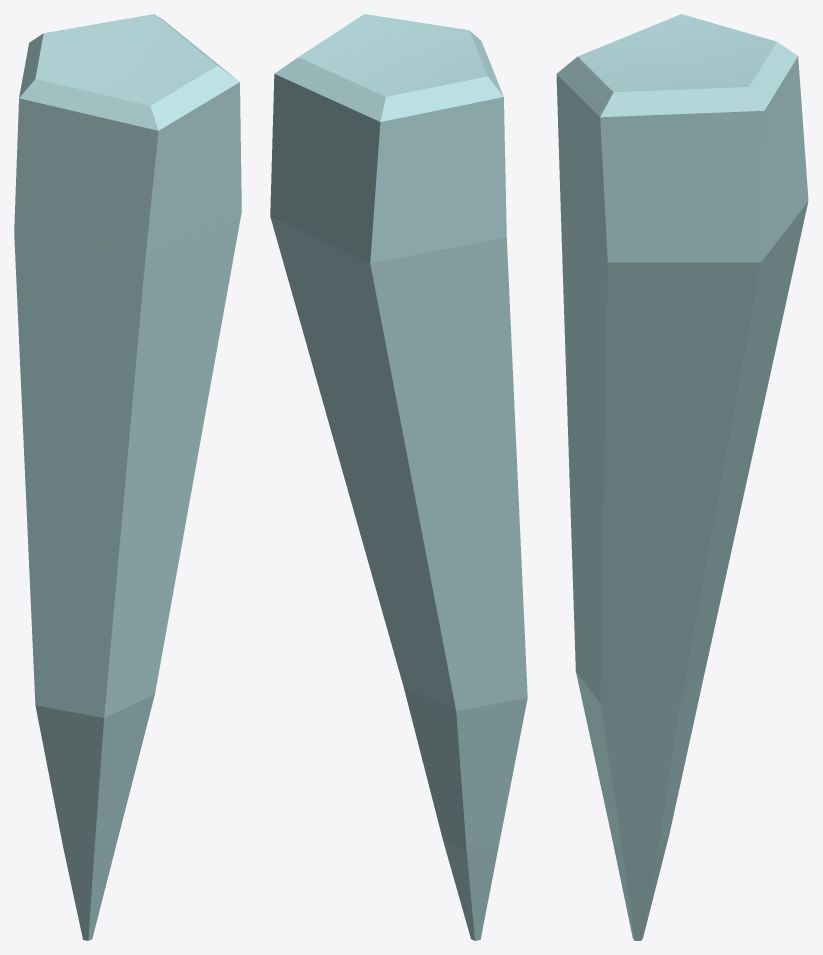
The model's file is stalagtite02.fbx.
The picture shows the model from 3 angles, left to right: view 1: azimuth 30°, elevation 25°; view 2: azimuth 150°, elevation 25°; view 3: azimuth 270°, elevation 25°; orthographic projection. The views are drawn at different scales.
Visible parts, largest first — view 1: Stalactite2; view 2: Stalactite2; view 3: Stalactite2.
Part boxes in pixels (x1,y1,x2,y2): Stalactite2: (14, 14, 241, 940); Stalactite2: (270, 14, 527, 940); Stalactite2: (556, 14, 808, 940).
Size of the model in its own units: 74.6 by 319 by 79.7.
